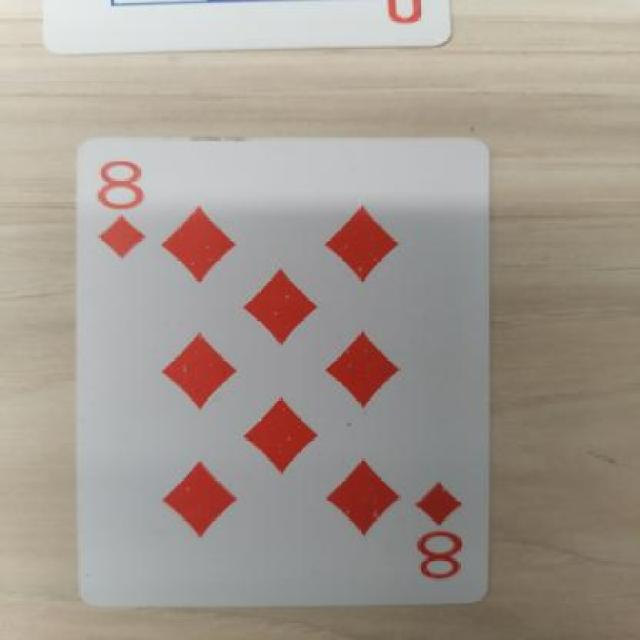8D: (81, 148, 182, 274), (402, 472, 478, 594)
